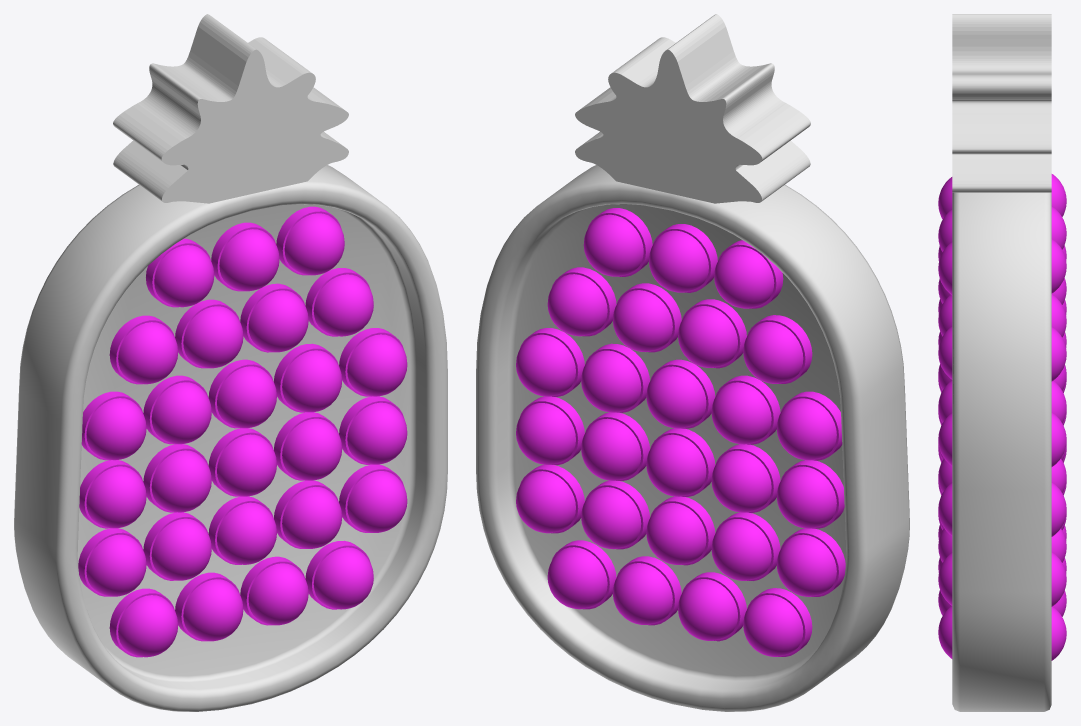
The picture shows the model from 3 angles, left to right: view 1: azimuth 30°, elevation 25°; view 2: azimuth 150°, elevation 25°; view 3: azimuth 270°, elevation 25°; orthographic projection. The views are drawn at different scales.
Visible parts, largest first — view 1: Extrude.005, External7, Sphere.502, Sphere.491, Sphere.492, Sphere.506, Sphere.496, Sphere.500, Sphere.504, Sphere.509, Sphere.514, Sphere.501 (+41 smaller); view 2: Extrude.005, External7, Sphere.466, Sphere.475, Sphere.480, Sphere.474, Sphere.479, Sphere.465, Sphere.467, Sphere.481, Sphere.484, Sphere.487 (+41 smaller); view 3: Extrude.005, External7, Sphere.469, Sphere.483, Sphere.485, Sphere.466, Sphere.473, Sphere.478, Sphere.495, Sphere.505, Sphere.512, Sphere.491 (+14 smaller).
Part boxes in pixels (box(x1,y1,x2,y2)): Extrude.005: box(14, 165, 447, 711); External7: box(113, 14, 348, 203); Sphere.502: box(86, 466, 146, 528); Sphere.491: box(284, 213, 344, 275); Sphere.492: box(183, 306, 243, 368); Sphere.506: box(183, 579, 243, 641); Sphere.496: box(151, 382, 211, 444); Sphere.500: box(347, 334, 407, 396); Sphere.504: box(282, 418, 342, 480); Sphere.509: box(86, 534, 146, 596); Sphere.514: box(313, 547, 373, 609); Sphere.501: box(151, 450, 211, 512); Extrude.005: box(476, 165, 909, 711); External7: box(575, 14, 810, 203); Sphere.466: box(583, 214, 643, 276); Sphere.475: box(711, 382, 771, 444); Sphere.480: box(711, 450, 771, 512); Sphere.474: box(646, 366, 706, 428); Sphere.479: box(646, 434, 706, 496); Sphere.465: box(649, 230, 708, 292); Sphere.467: box(714, 246, 774, 308); Sphere.481: box(776, 466, 836, 528); Sphere.484: box(581, 487, 641, 549); Sphere.487: box(711, 519, 771, 580); Extrude.005: box(952, 192, 1051, 711); External7: box(952, 14, 1051, 192); Sphere.469: box(1051, 327, 1066, 381); Sphere.483: box(1051, 606, 1066, 660); Sphere.485: box(1051, 552, 1066, 606); Sphere.466: box(1051, 239, 1066, 293); Sphere.473: box(1051, 412, 1066, 466); Sphere.478: box(1051, 482, 1066, 536); Sphere.495: box(938, 326, 952, 379); Sphere.505: box(938, 483, 952, 535); Sphere.512: box(938, 552, 952, 605); Sphere.491: box(938, 242, 952, 295).
Bounding box in the file's own units: 18 × 28.86 × 5.01.
